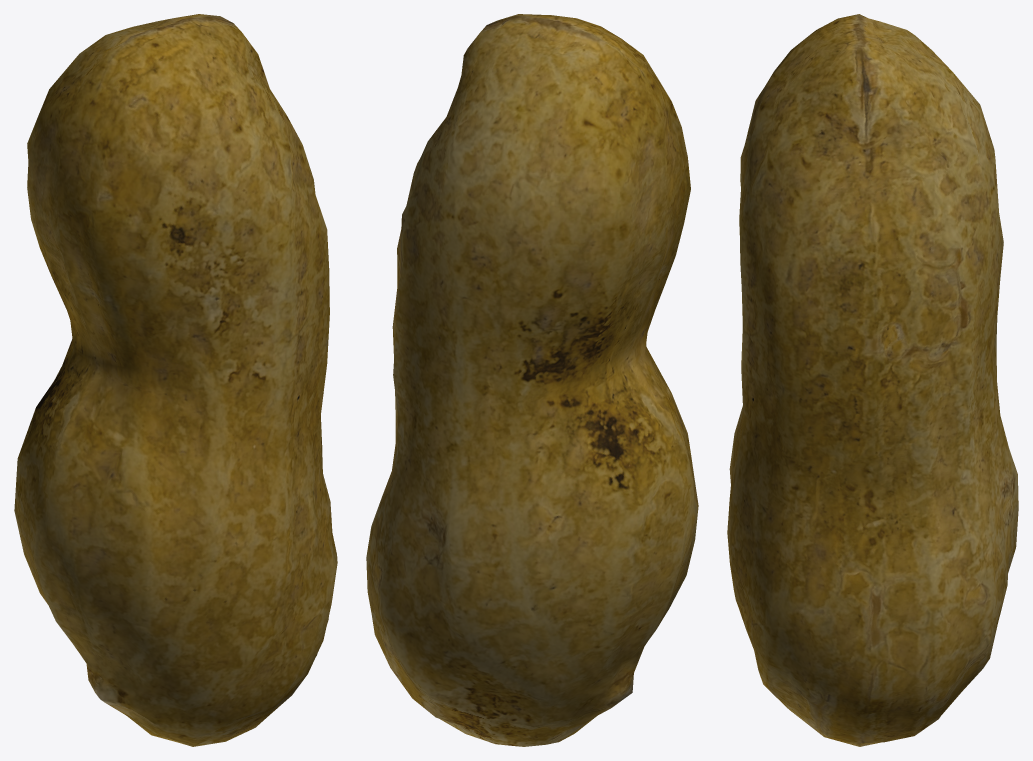
The model's file is mani.glb.
3 renders of one model, left to right at view 1: azimuth 30°, elevation 25°; view 2: azimuth 150°, elevation 25°; view 3: azimuth 270°, elevation 25°, orthographic. The views are drawn at different scales.
Parts seen in each view (by area): view 1: Object_2; view 2: Object_2; view 3: Object_2.
Boxes of the visible parts, x1,y1,x2,y2 form: Object_2: (14, 14, 337, 746); Object_2: (366, 14, 698, 746); Object_2: (727, 14, 1018, 746).
Bounding box in the file's own units: 0.0167 × 0.0399 × 0.0152.
1 material, 1 textured.
